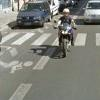Motorcycle: (49, 7, 84, 59)
